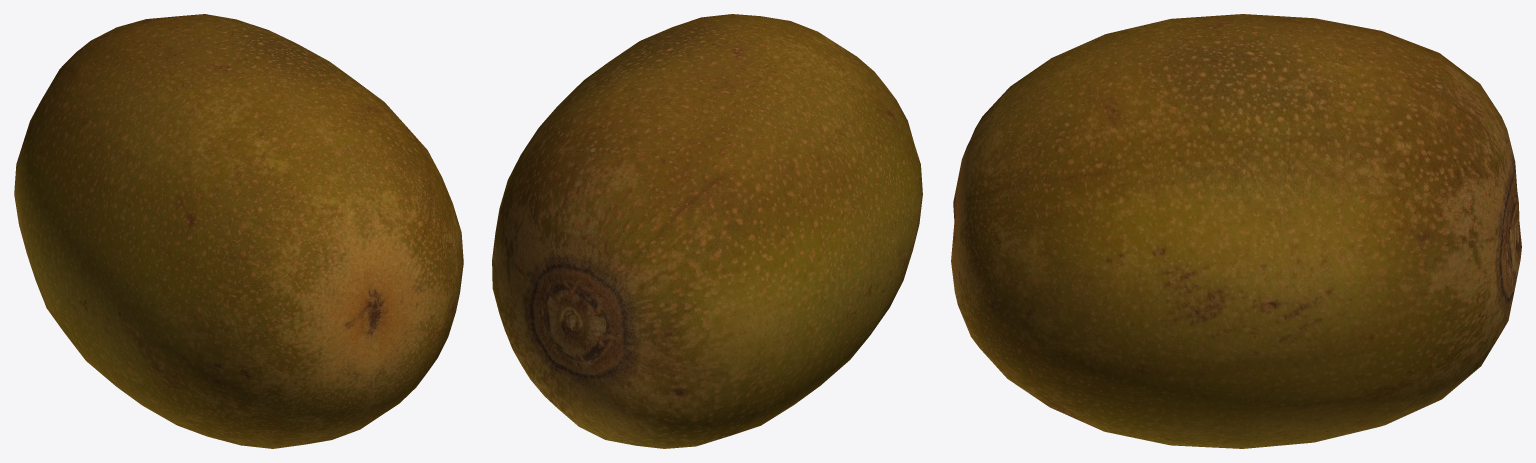
Rendered from kiwi.glb.
3 renders of one model, left to right at view 1: azimuth 30°, elevation 25°; view 2: azimuth 150°, elevation 25°; view 3: azimuth 270°, elevation 25°, orthographic. The views are drawn at different scales.
Parts seen in each view (by area): view 1: Kiwi; view 2: Kiwi; view 3: Kiwi.
Boxes of the visible parts, x1,y1,x2,y2 form: Kiwi: [14, 14, 463, 448]; Kiwi: [492, 14, 922, 448]; Kiwi: [951, 14, 1521, 448].
Bounding box in the file's own units: 0.0451 × 0.0486 × 0.0631.
Materials: 1 (1 with a texture image).
